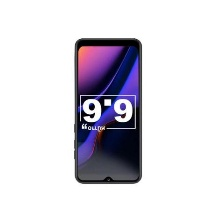phone: (73, 33, 146, 191)
